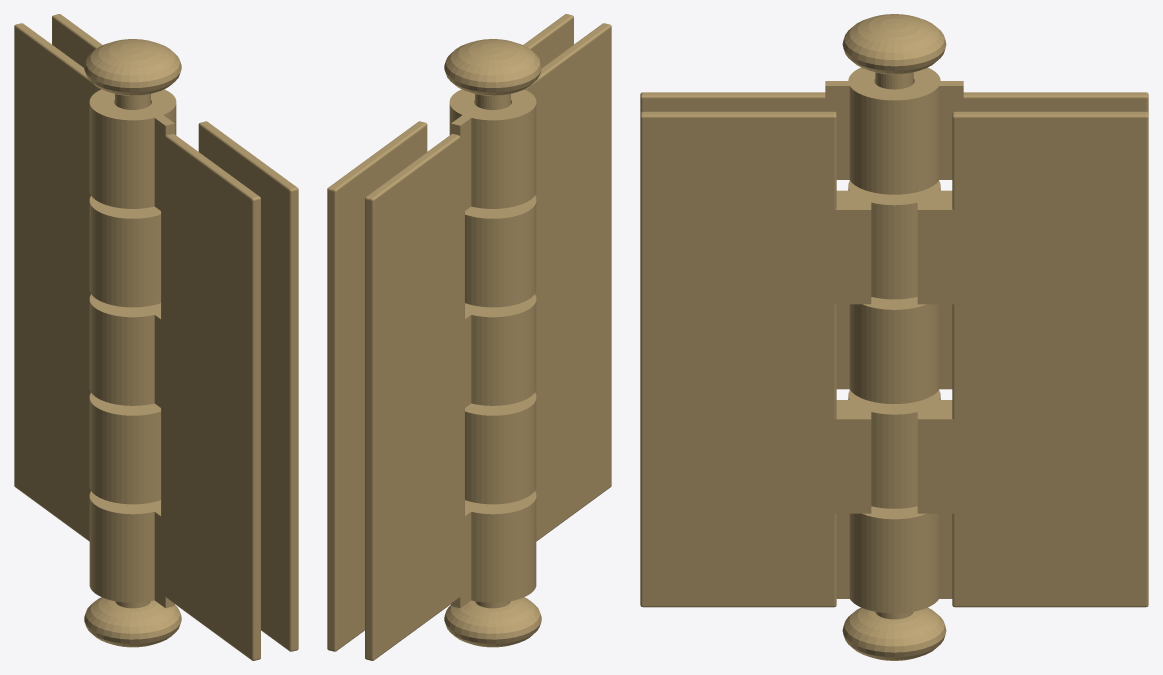
File: door_butt_hinge.glb
3 views of the same model, side by side, from view 1: azimuth 30°, elevation 25°; view 2: azimuth 150°, elevation 25°; view 3: azimuth 270°, elevation 25° (orthographic). The views are drawn at different scales.
Visible parts, largest first — view 1: FixedFront, FixedBack, MovingFront, MovingBack; view 2: FixedBack, FixedFront, MovingBack, MovingFront; view 3: MovingBack, MovingFront, FixedBack, FixedFront.
Boxes of the visible parts, x1,y1,x2,y2 form: FixedFront: (85, 39, 260, 660); FixedBack: (14, 23, 181, 647); MovingFront: (89, 121, 298, 651); MovingBack: (52, 14, 160, 504); FixedBack: (365, 39, 538, 660); FixedFront: (444, 23, 611, 647); MovingBack: (327, 121, 536, 651); MovingFront: (465, 14, 573, 503); MovingBack: (848, 111, 1148, 607); MovingFront: (640, 111, 940, 607); FixedBack: (843, 14, 1148, 660); FixedFront: (640, 14, 945, 660).
Bounding box in the file's own units: 0.019 × 0.12 × 0.088.
